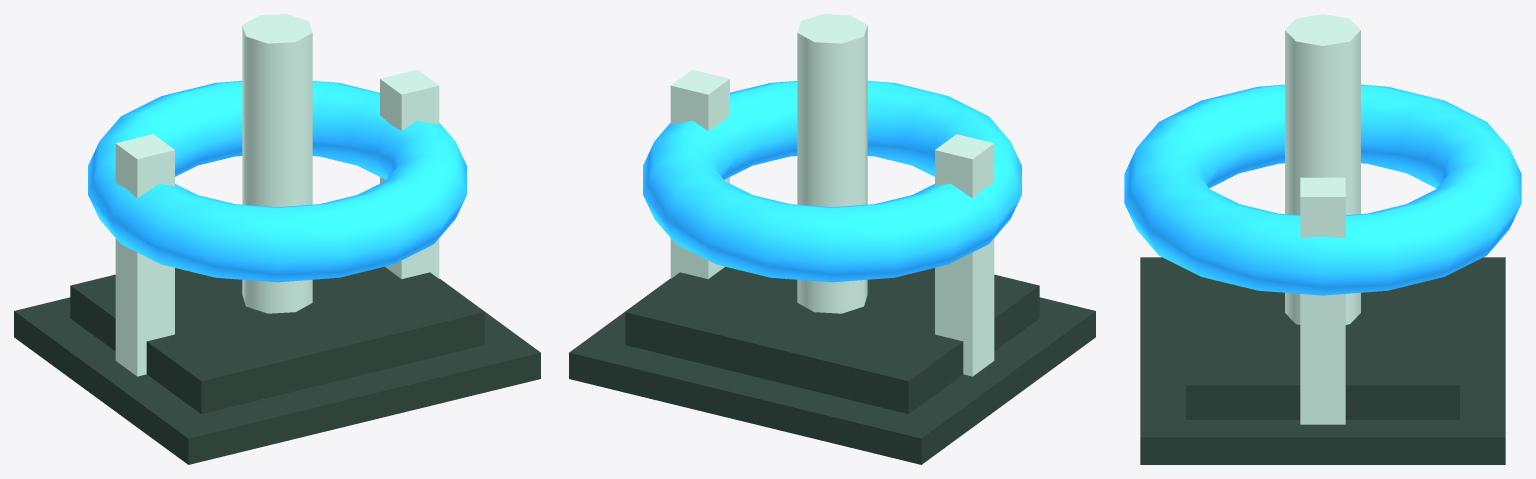
File: grid-flywheel.glb
3 views of the same model, side by side, from view 1: azimuth 30°, elevation 25°; view 2: azimuth 150°, elevation 25°; view 3: azimuth 270°, elevation 25° (orthographic). The views are drawn at different scales.
Visible parts, largest first — view 1: spin-z-rotor-ring, body-flywheel, base-footprint, pulse-rotor-core, brace-left, brace-right; view 2: spin-z-rotor-ring, body-flywheel, base-footprint, pulse-rotor-core, brace-left, brace-right; view 3: spin-z-rotor-ring, base-footprint, body-flywheel, pulse-rotor-core, brace-right.
Part boxes in pixels (x1,y1,x2,y2): spin-z-rotor-ring: (88, 81, 466, 282); body-flywheel: (70, 267, 484, 413); base-footprint: (14, 278, 540, 464); pulse-rotor-core: (242, 14, 312, 313); brace-left: (115, 134, 174, 376); brace-right: (380, 69, 439, 278); spin-z-rotor-ring: (643, 81, 1021, 282); body-flywheel: (625, 267, 1039, 413); base-footprint: (569, 278, 1095, 464); pulse-rotor-core: (797, 14, 867, 313); brace-left: (935, 134, 994, 376); brace-right: (670, 69, 729, 278); spin-z-rotor-ring: (1124, 84, 1521, 295); base-footprint: (1140, 257, 1505, 464); body-flywheel: (1186, 269, 1459, 419); pulse-rotor-core: (1285, 14, 1360, 324); brace-right: (1300, 177, 1345, 424).
Bounding box in the file's own units: 1.12 × 1 × 1.04.
